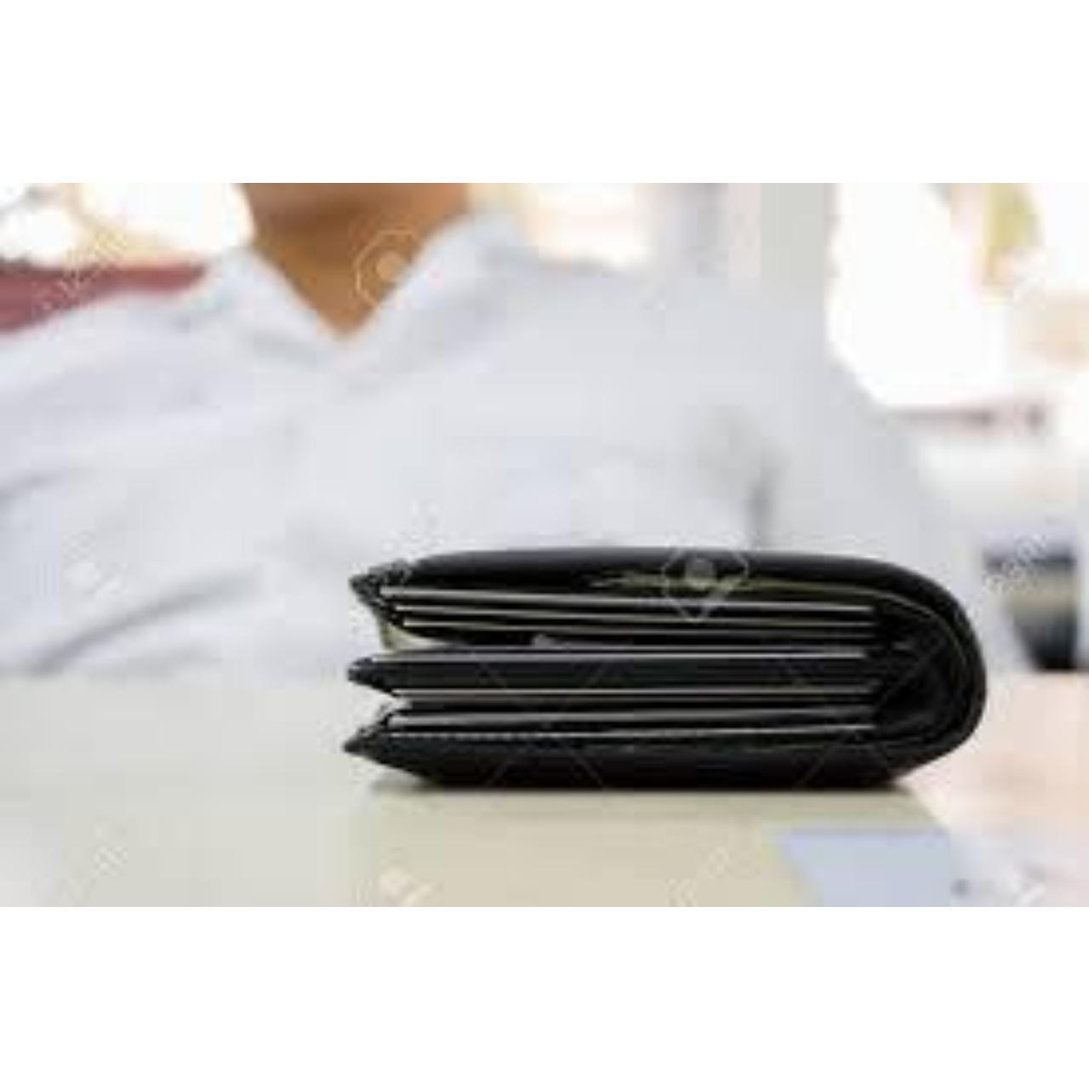wallet: (337, 517, 1014, 817)
